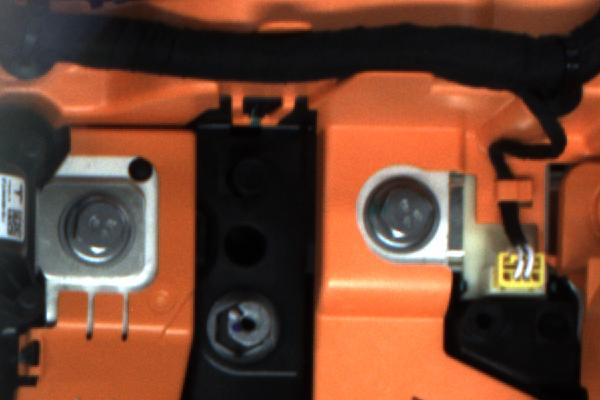nut_b: (48, 189, 144, 274), (353, 177, 441, 254)
